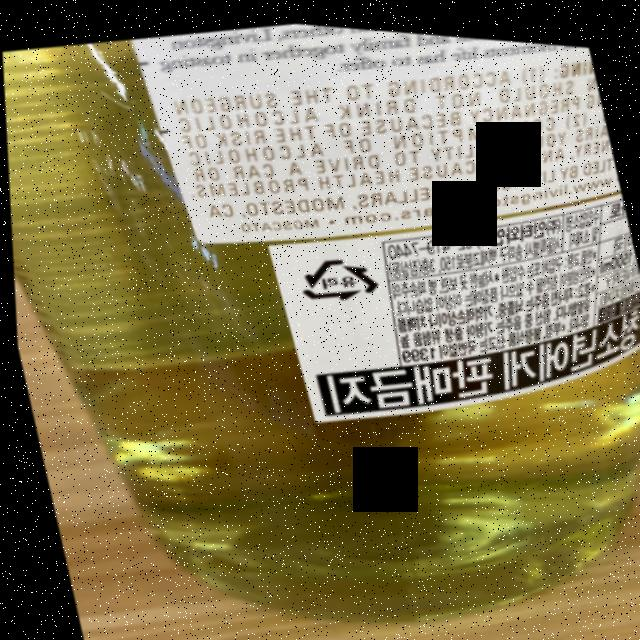Glass: (291, 241, 382, 306)
